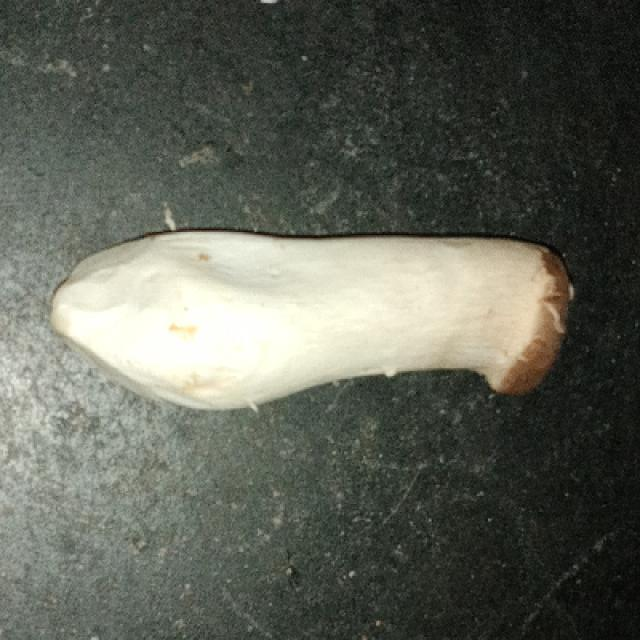Pleurotus eryngii: (48, 227, 571, 411)
